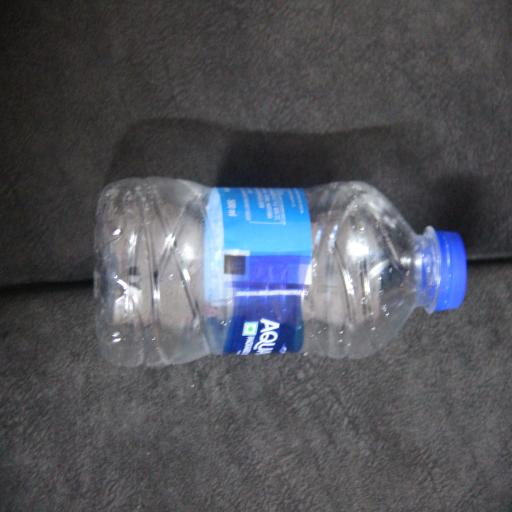Aquafina: (119, 68, 243, 512)
